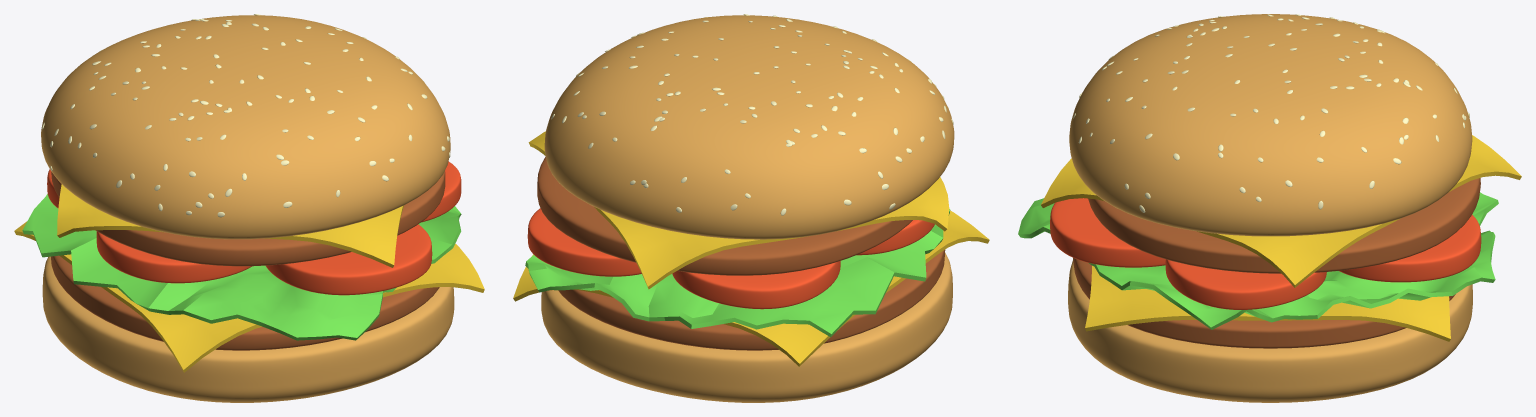
File: hamburger.glb
3 views of the same model, side by side, from view 1: azimuth 30°, elevation 25°; view 2: azimuth 150°, elevation 25°; view 3: azimuth 270°, elevation 25° (orthographic).
Parts seen in each view (by area): view 1: Bread top.002, Bread bottom, Salad, Meat 2, Cheese, Tomato.004, Meat, Cheese 2, Tomato, Tomato.003; view 2: Bread top.002, Bread bottom, Salad, Meat 2, Meat, Cheese 2, Tomato.001, Cheese, Tomato.002, Tomato; view 3: Bread top.002, Bread bottom, Meat 2, Salad, Cheese, Cheese 2, Meat, Tomato.003, Tomato.004, Tomato.002.
Part boxes in pixels (box(x1,y1,x2,y2)): Bread top.002: box(41, 15, 450, 239); Bread bottom: box(42, 256, 454, 402); Salad: box(22, 194, 461, 340); Meat 2: box(51, 171, 445, 266); Cheese: box(14, 221, 484, 372); Tomato.004: box(266, 224, 432, 295); Meat: box(51, 255, 439, 350); Cheese 2: box(57, 184, 403, 267); Tomato: box(96, 231, 251, 283); Tomato.003: box(421, 161, 461, 222); Bread top.002: box(544, 15, 954, 239); Bread bottom: box(541, 252, 952, 402); Salad: box(525, 209, 950, 337); Meat 2: box(537, 156, 912, 275); Meat: box(558, 250, 945, 350); Cheese 2: box(528, 131, 949, 289); Tomato.001: box(672, 261, 840, 309); Cheese: box(513, 210, 989, 366); Tomato.002: box(527, 208, 641, 276); Tomato: box(856, 220, 934, 255); Bread top.002: box(1069, 14, 1472, 236); Bread bottom: box(1068, 260, 1472, 402); Meat 2: box(1088, 178, 1480, 273); Salad: box(1018, 192, 1498, 329); Cheese: box(1085, 265, 1450, 341); Cheese 2: box(1041, 135, 1521, 287); Meat: box(1073, 258, 1455, 348); Tomato.003: box(1165, 259, 1326, 309); Tomato.004: box(1050, 198, 1165, 267); Tomato.002: box(1339, 214, 1481, 282).
Bounding box in the file's own units: 21.12 × 14.48 × 22.83.
